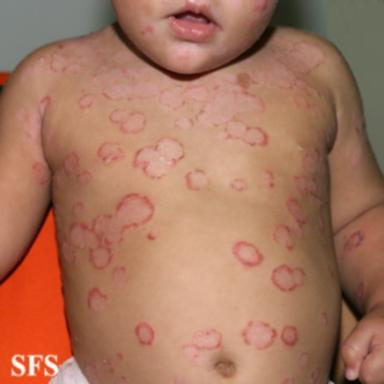Impetigo: (92, 40, 327, 148), (62, 192, 155, 270), (135, 137, 184, 179), (294, 176, 325, 234), (16, 97, 50, 142), (183, 329, 222, 362), (241, 321, 276, 350), (271, 265, 305, 292), (109, 110, 145, 134), (286, 198, 307, 238), (50, 52, 82, 76), (233, 242, 263, 267), (293, 94, 323, 117), (98, 143, 125, 163), (88, 288, 108, 313), (274, 224, 293, 250), (135, 322, 155, 346), (302, 147, 319, 174), (186, 170, 208, 190), (32, 162, 51, 184), (344, 231, 364, 251), (215, 360, 235, 378), (64, 152, 79, 176), (281, 325, 298, 346), (113, 267, 128, 288), (78, 93, 95, 110), (260, 170, 274, 188), (231, 179, 247, 191), (77, 171, 91, 184), (299, 352, 310, 367), (73, 202, 84, 217), (311, 367, 320, 384), (147, 228, 159, 240), (320, 312, 328, 325)
